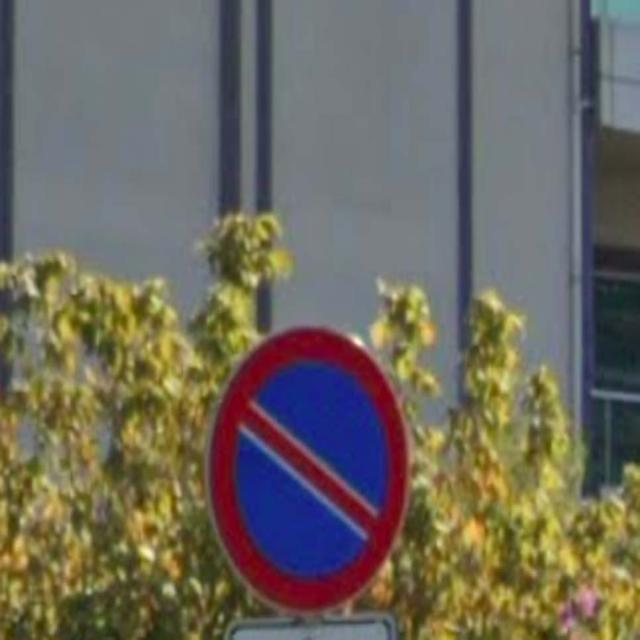parkyasak: (208, 323, 406, 609)
